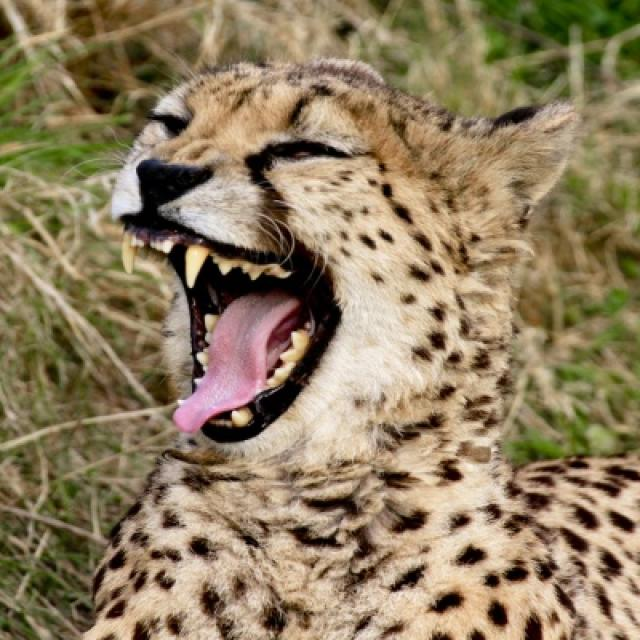Cheetah: (75, 61, 638, 638)
